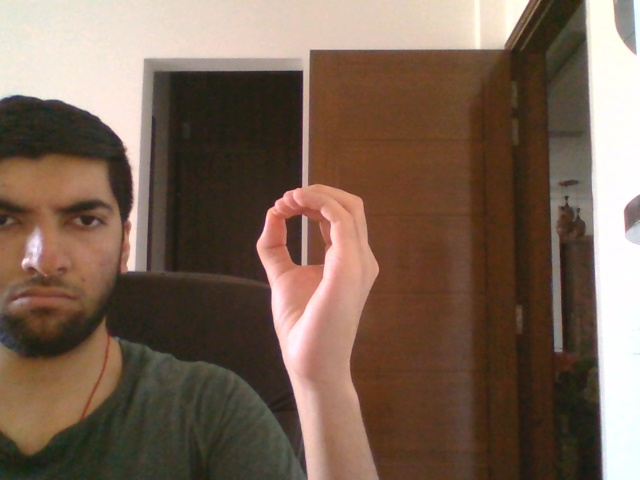LetterO: (254, 182, 380, 373)
